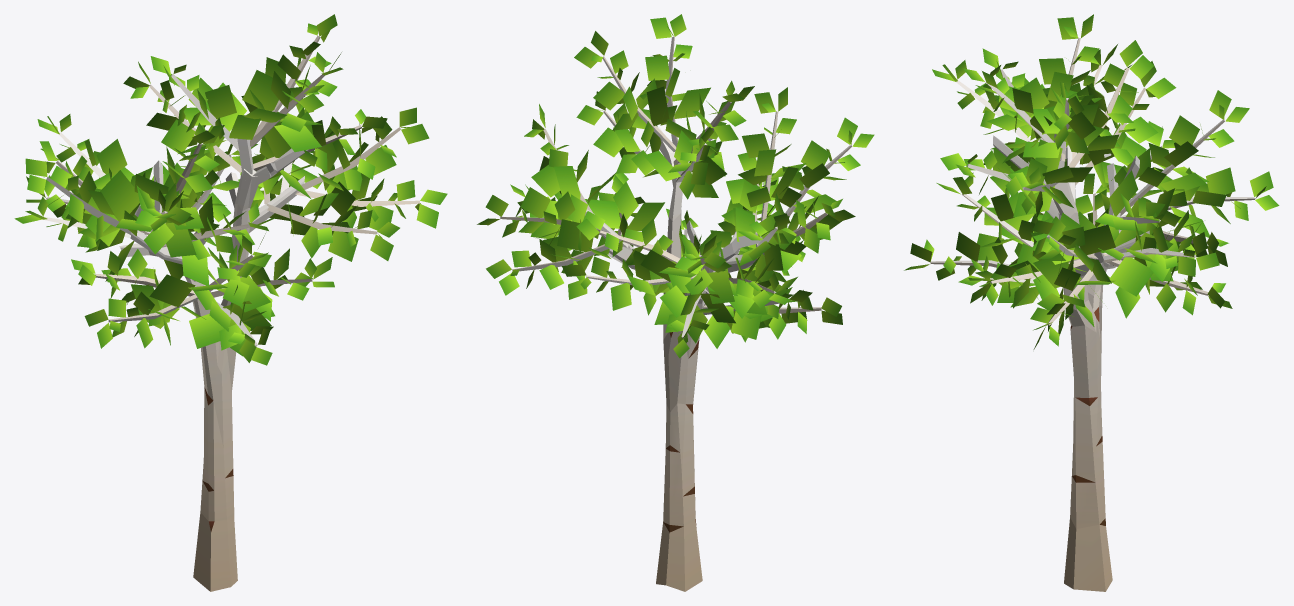
3 renders of one model, left to right at view 1: azimuth 30°, elevation 25°; view 2: azimuth 150°, elevation 25°; view 3: azimuth 270°, elevation 25°, orthographic. The views are drawn at different scales.
Visible parts, largest first — view 1: Tree3_BirchYoung; view 2: Tree3_BirchYoung; view 3: Tree3_BirchYoung.
Boxes of the visible parts, x1,y1,x2,y2 form: Tree3_BirchYoung: (14, 14, 447, 591); Tree3_BirchYoung: (477, 14, 874, 591); Tree3_BirchYoung: (904, 14, 1279, 591).
Bounding box in the file's own units: 7.5 × 10.04 × 6.18.
1 material, 1 textured.
